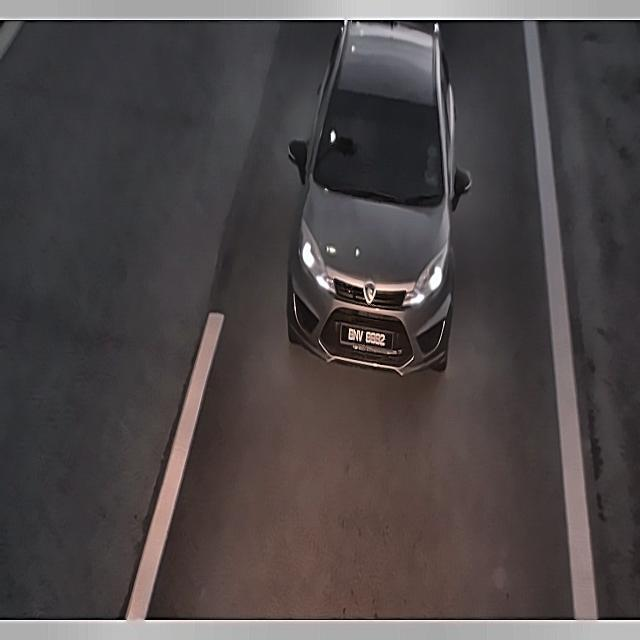car: (343, 319, 390, 354)
